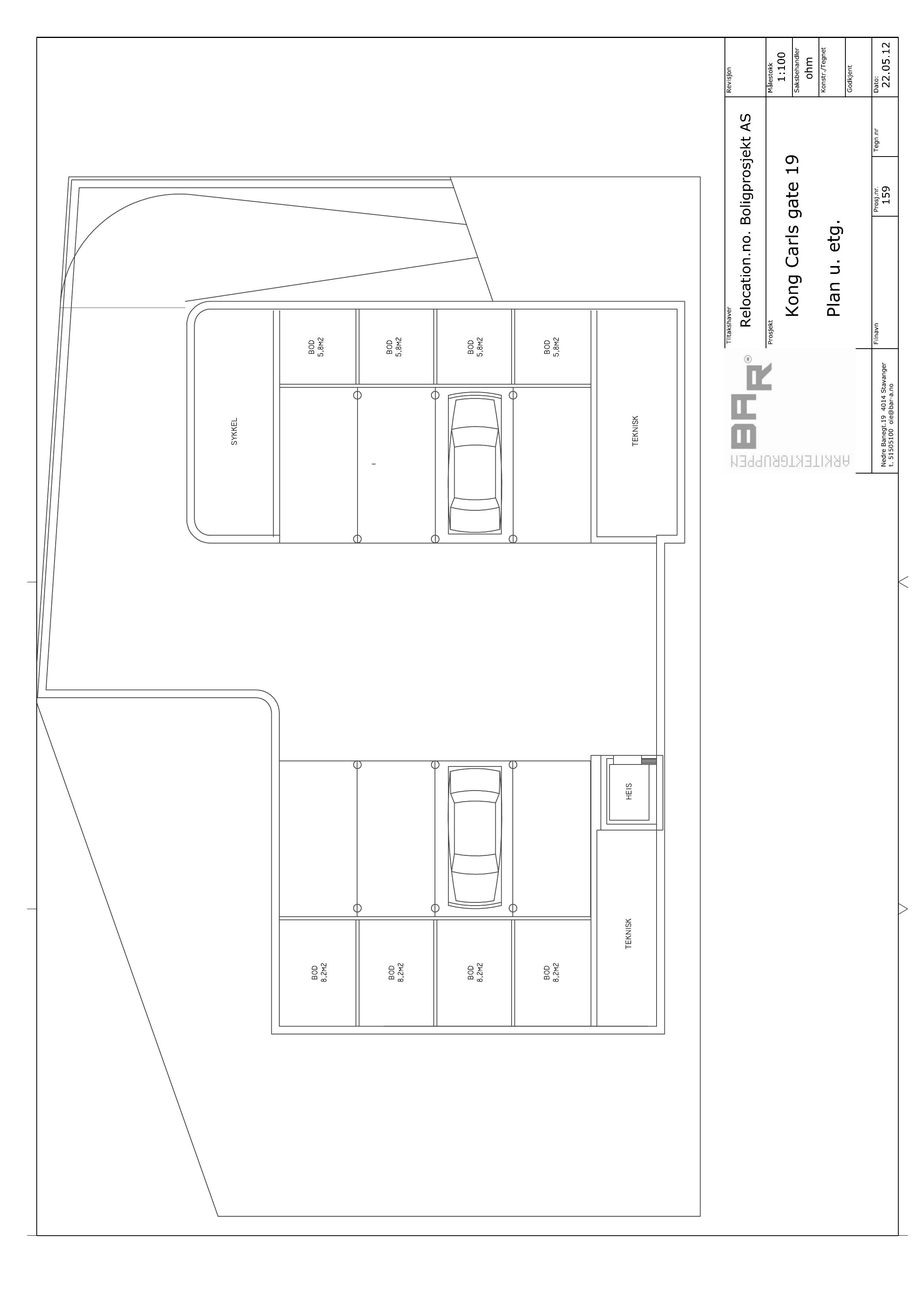plantegning: (36, 176, 688, 1034)
